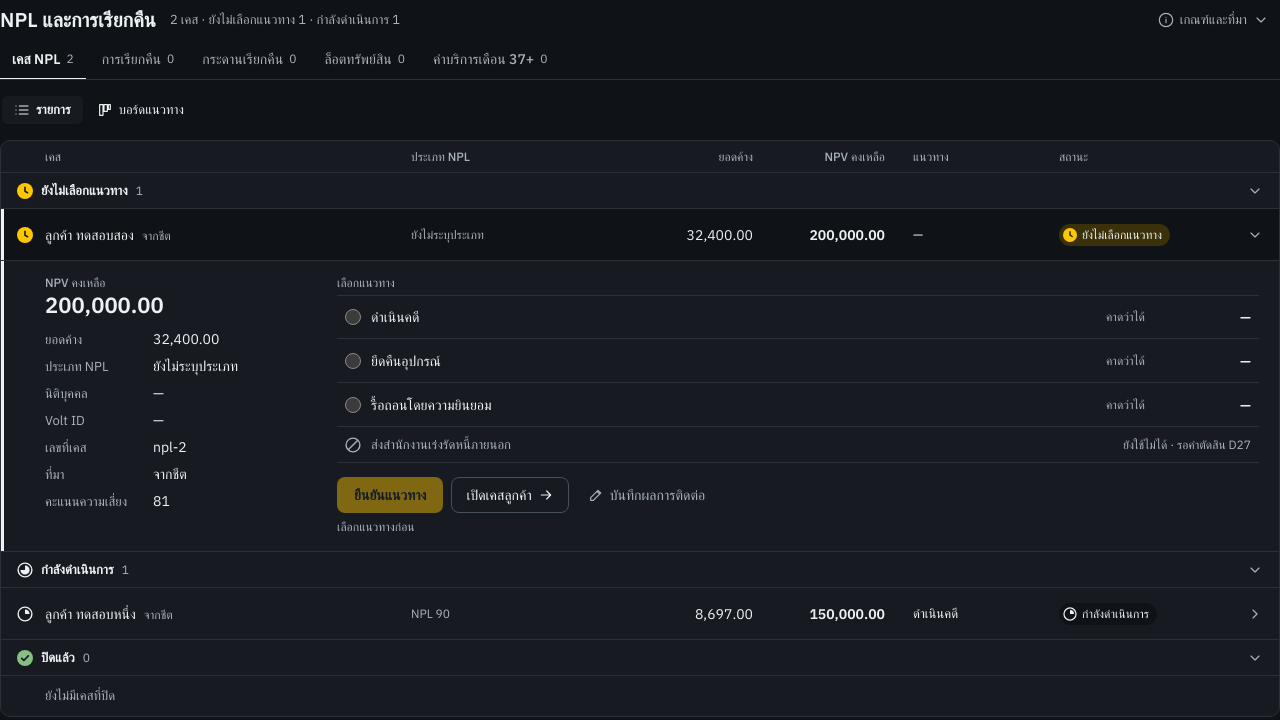
the NPL strategy board (F08, Q2) › asks for a reason before any move
Click the radio button labelled "บอร์ดแนวทาง": (140, 110) [85, 96, 196, 124]
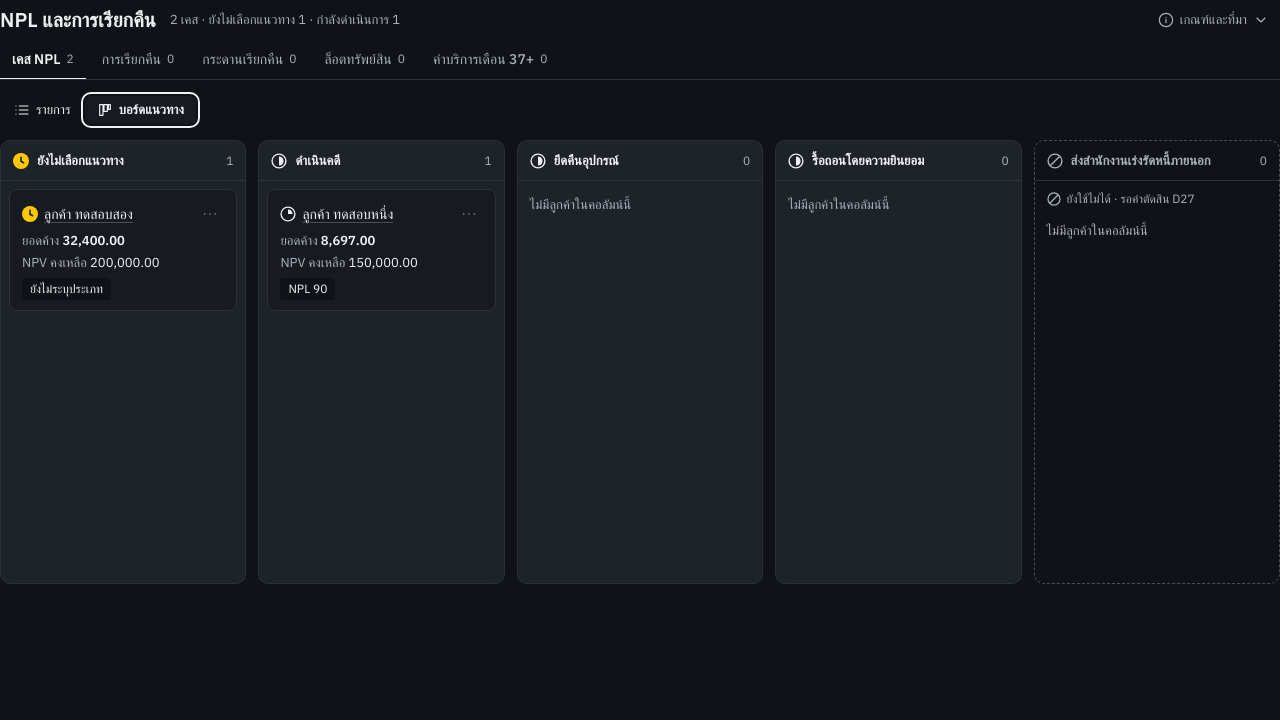
Click the button named "ตัวเลือกของ ลูกค้า ทดสอบสอง": (210, 214) [196, 200, 224, 228]
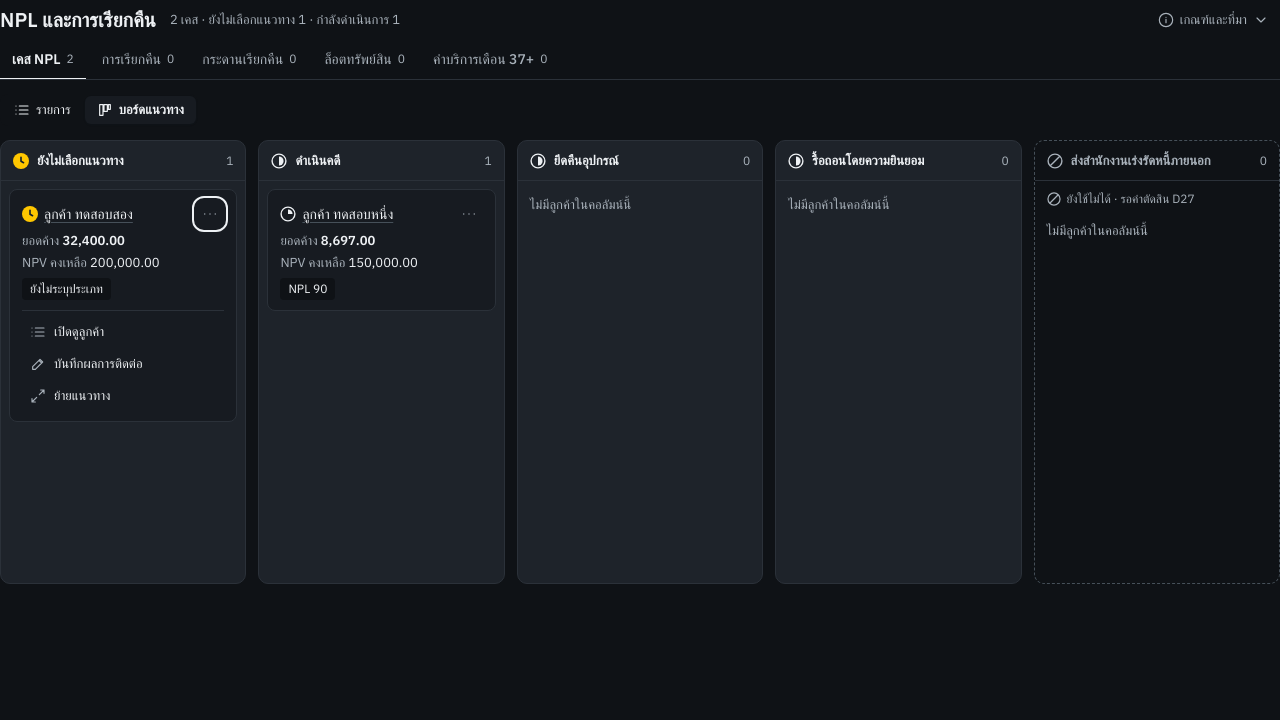
Click the button "ย้ายแนวทาง": (123, 396) [22, 381, 224, 411]
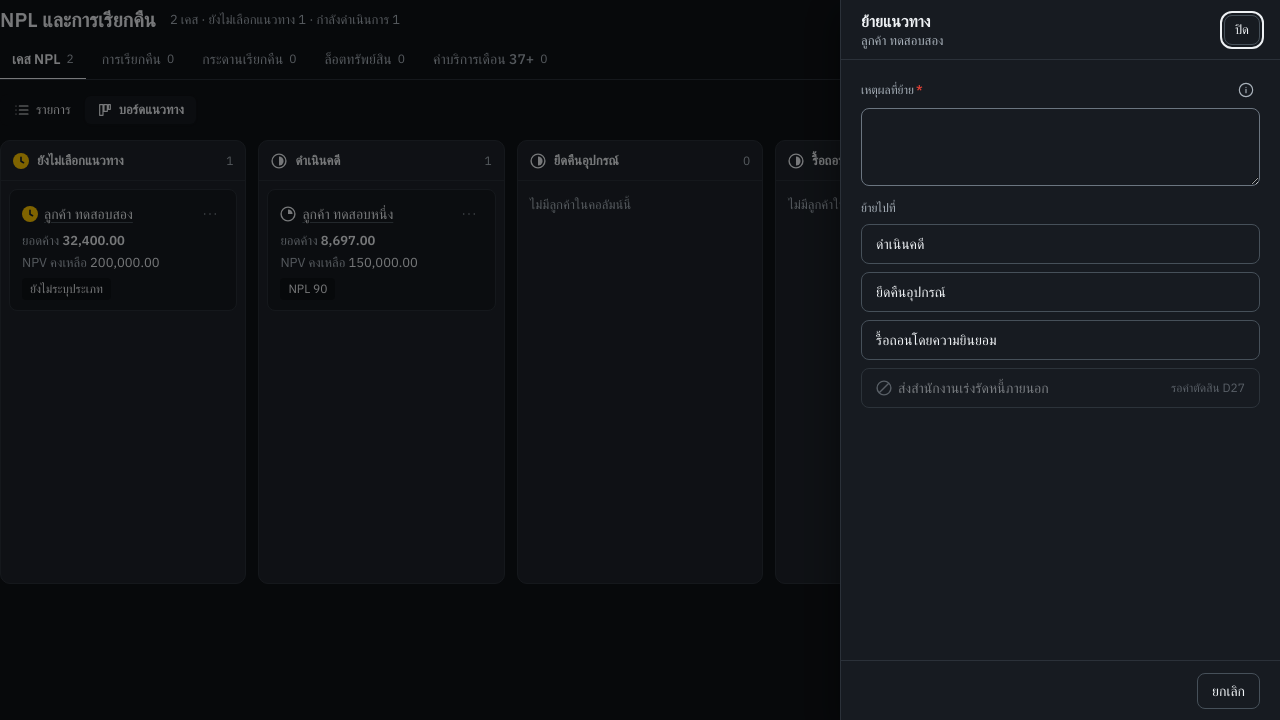
Click the button "ดำเนินคดี": (900, 244) [861, 224, 1260, 264]
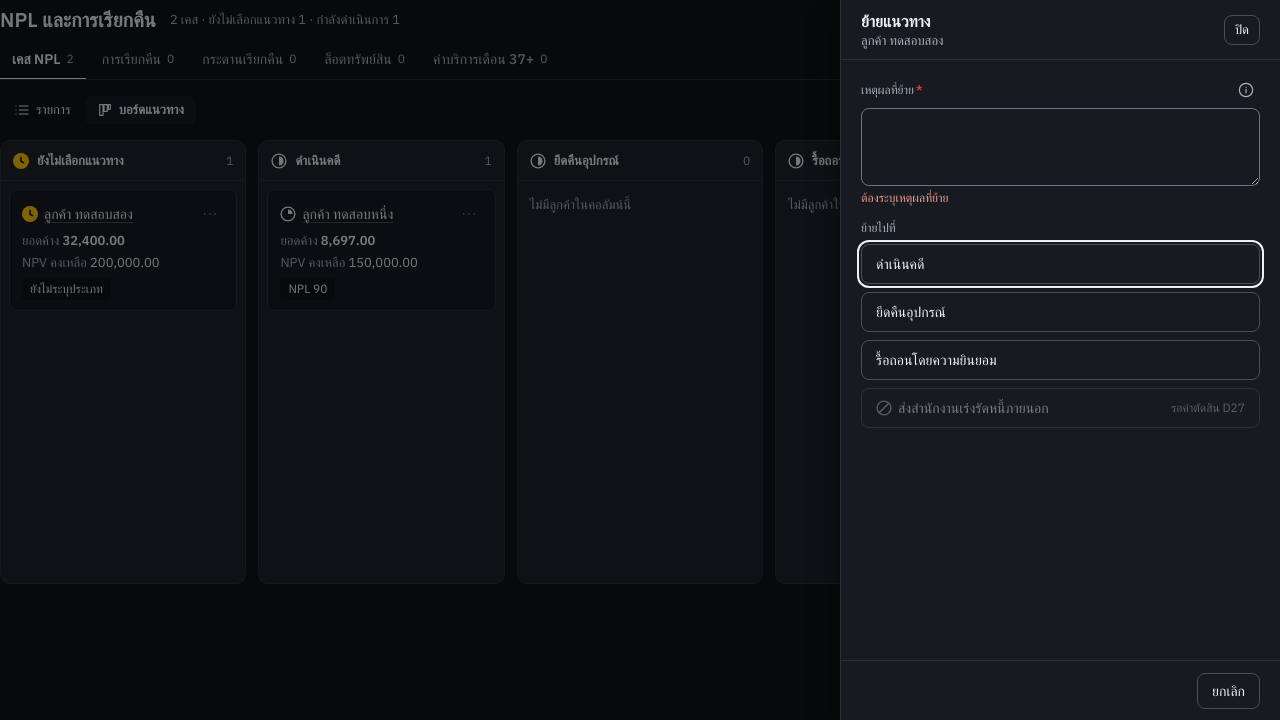
Result: the message reads "ต้องระบุเหตุผลที่ย้าย" at [861, 190, 948, 205]
